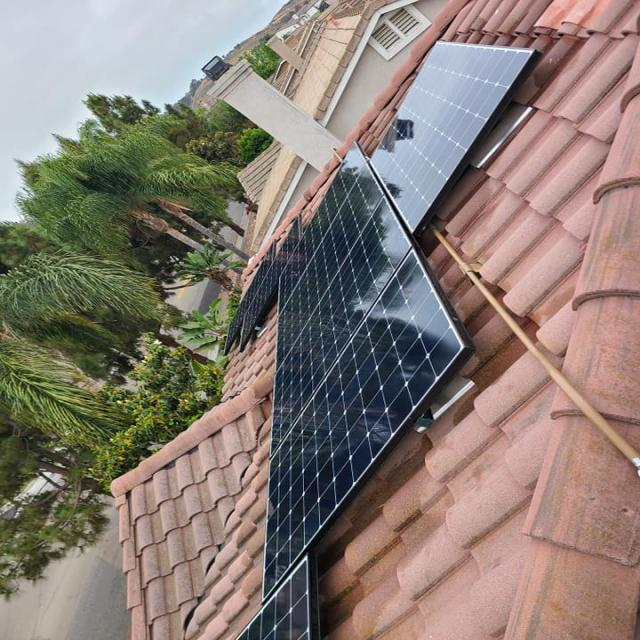clean-solar-panel: (265, 148, 470, 596), (372, 41, 537, 230)
